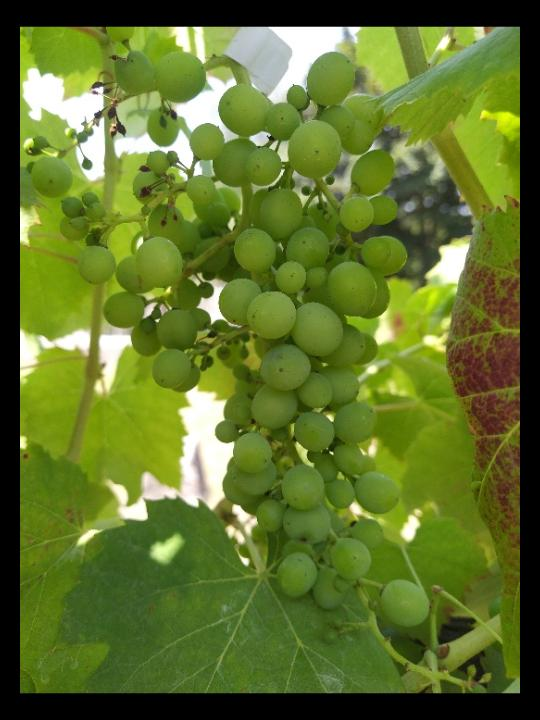grape: (27, 51, 432, 633)
